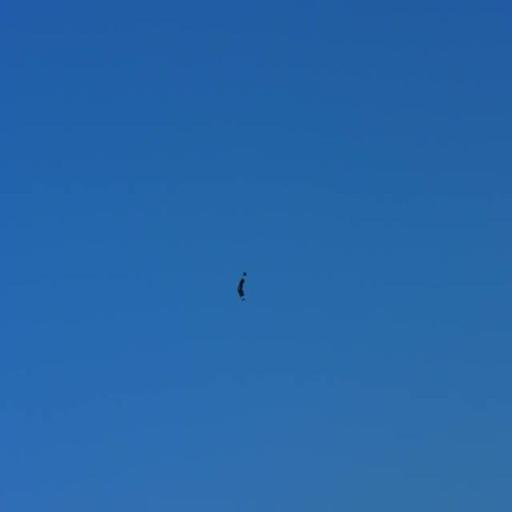uav: (233, 268, 250, 310)
